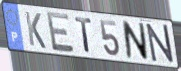5: (98, 18, 121, 58)
E: (45, 11, 76, 54)
K: (24, 10, 48, 51)
N: (145, 23, 176, 64), (121, 20, 150, 63)
T: (73, 16, 93, 54)
